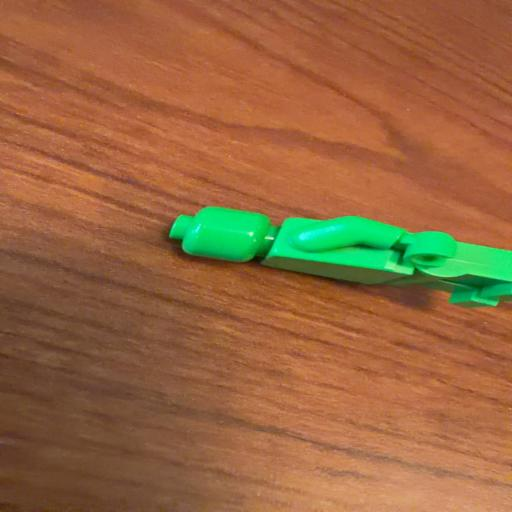UnoQ-minifig-detector: (170, 207, 512, 306)
